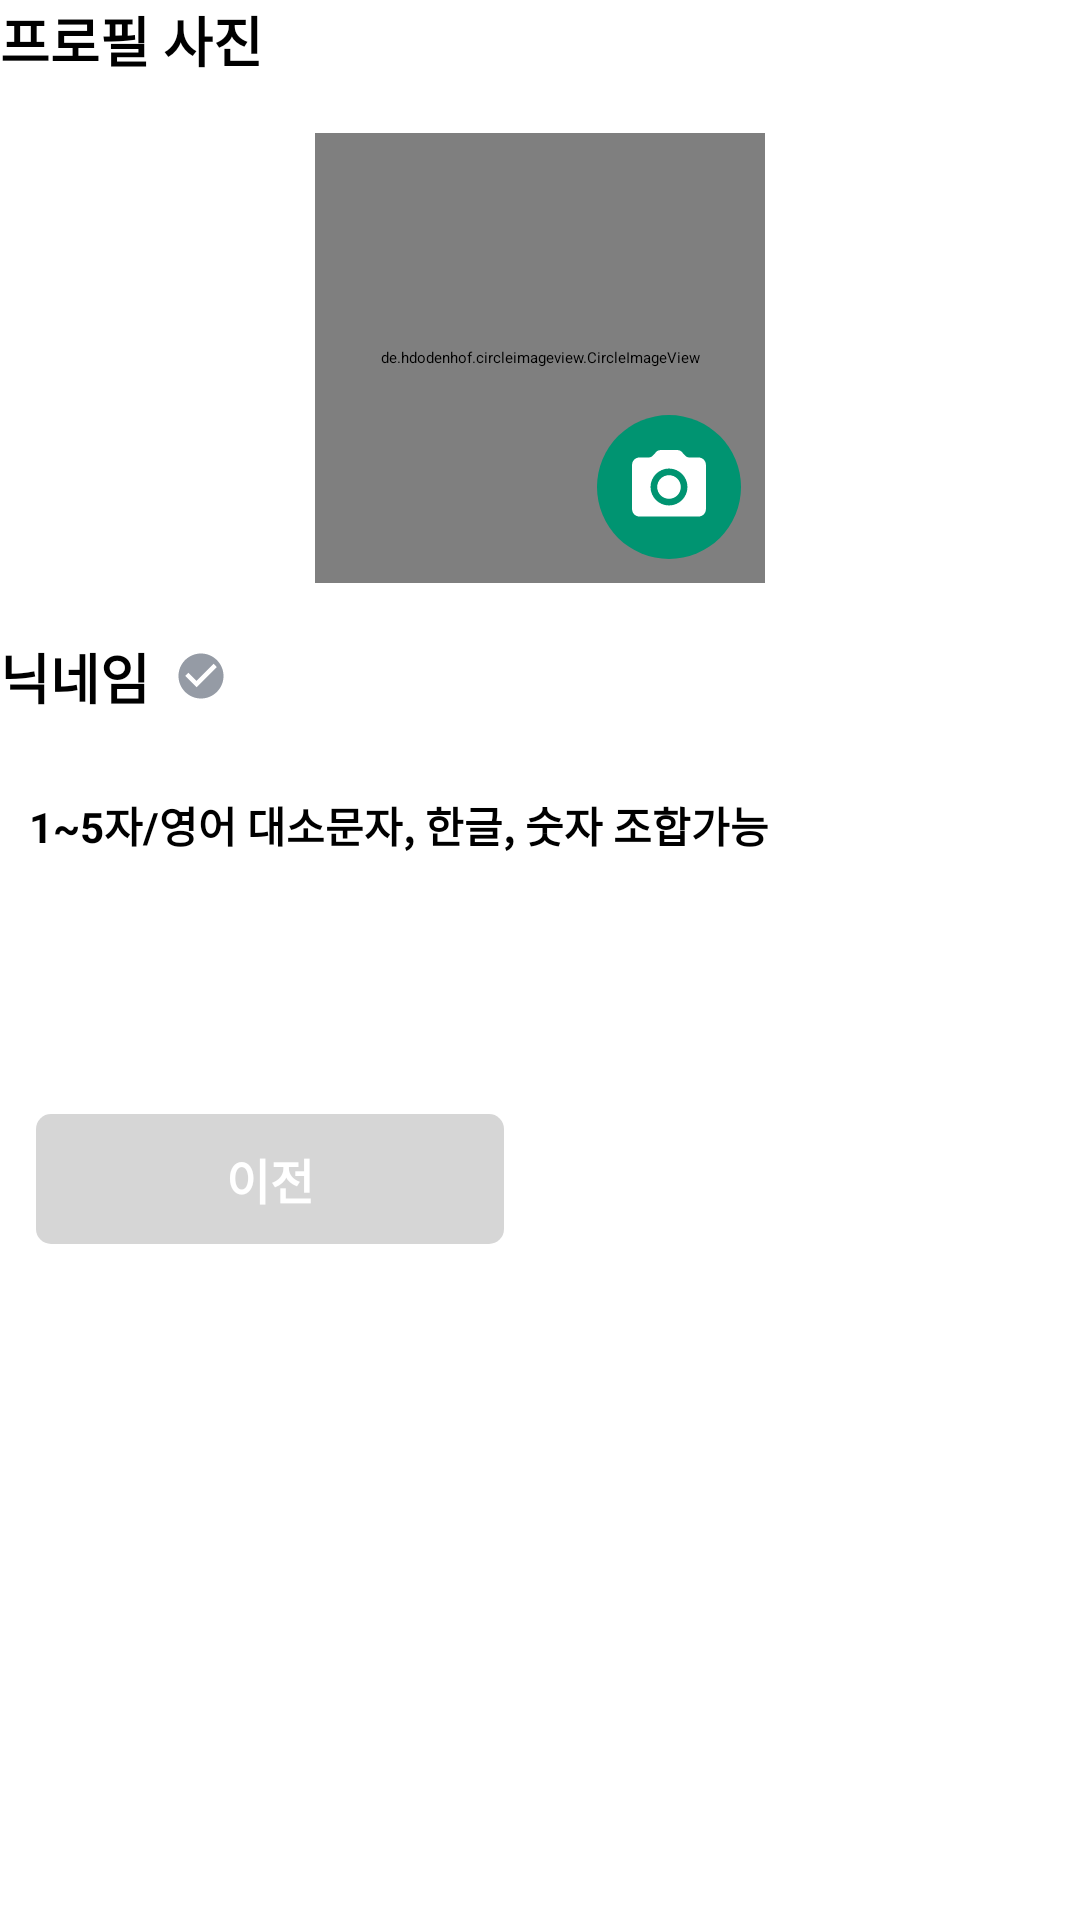

Where icons sit on this 1080px×1920px app screen, as [x1,y1,x2,y2]:
camera: [597,415,741,559]
check: [178,653,224,699]
